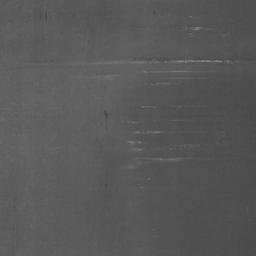Waist folding: (35, 58, 256, 87), (103, 109, 213, 163), (152, 10, 212, 32), (141, 104, 199, 109)
